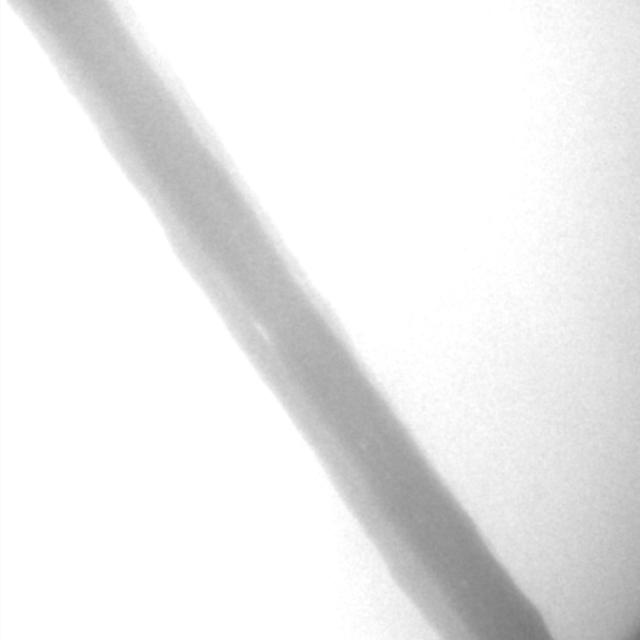air-hole: (251, 318, 267, 340), (358, 440, 364, 450), (418, 512, 422, 526), (463, 578, 469, 584), (385, 475, 388, 477)
broken arc: (498, 564, 559, 640)
